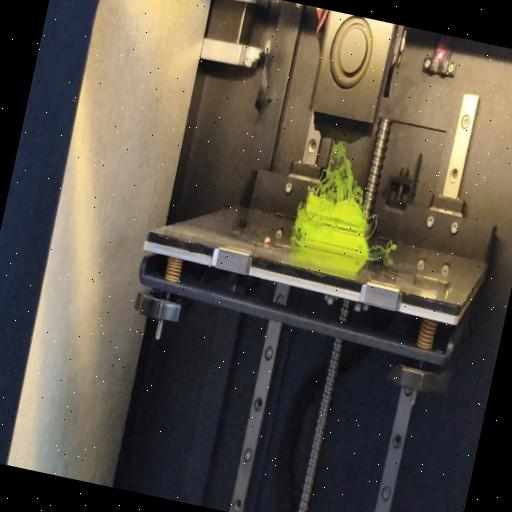spaghetti: (307, 134, 375, 210), (367, 233, 399, 259), (365, 210, 381, 238), (288, 230, 302, 244)
